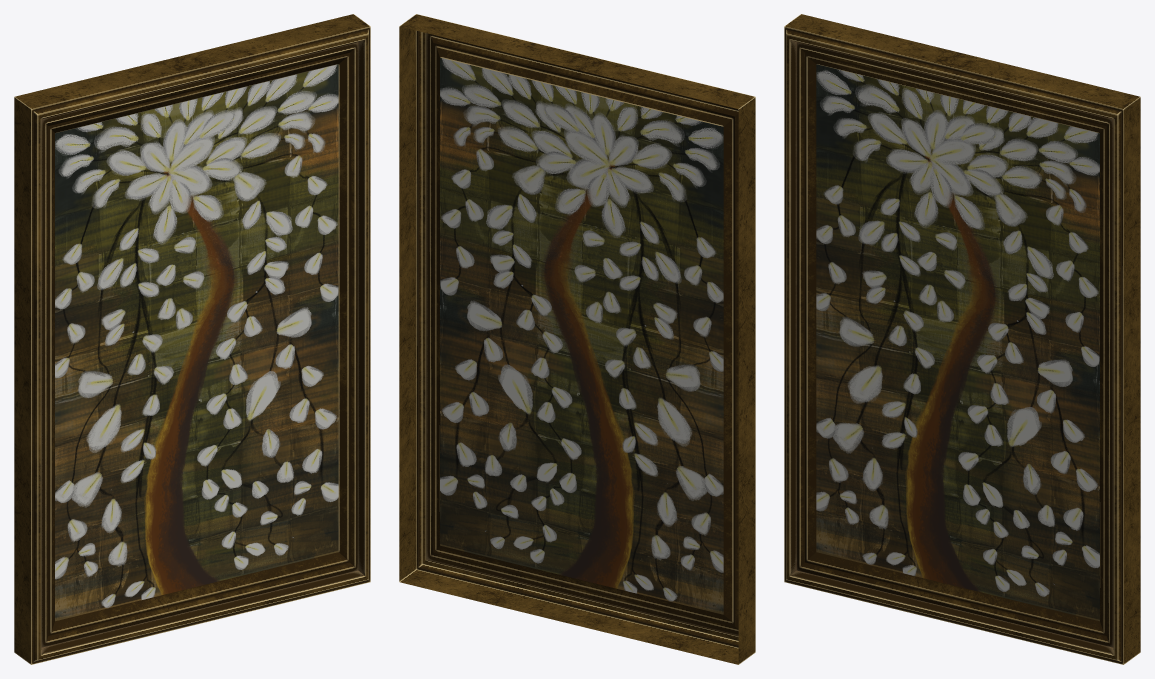
File: painting-portrait-9.fbx
The picture shows the model from 3 angles, left to right: view 1: azimuth 30°, elevation 25°; view 2: azimuth 150°, elevation 25°; view 3: azimuth 330°, elevation 25°; orthographic projection.
Visible parts, largest first — view 1: painting_Var2.003; view 2: painting_Var2.003; view 3: painting_Var2.003.
Part boxes in pixels (x1,y1,x2,y2): painting_Var2.003: (14,14,370,664); painting_Var2.003: (399,14,755,664); painting_Var2.003: (784,14,1140,664).
Bounding box in the file's own units: 59.07 × 92.39 × 5.86.
Materials: 2 (2 with a texture image).
